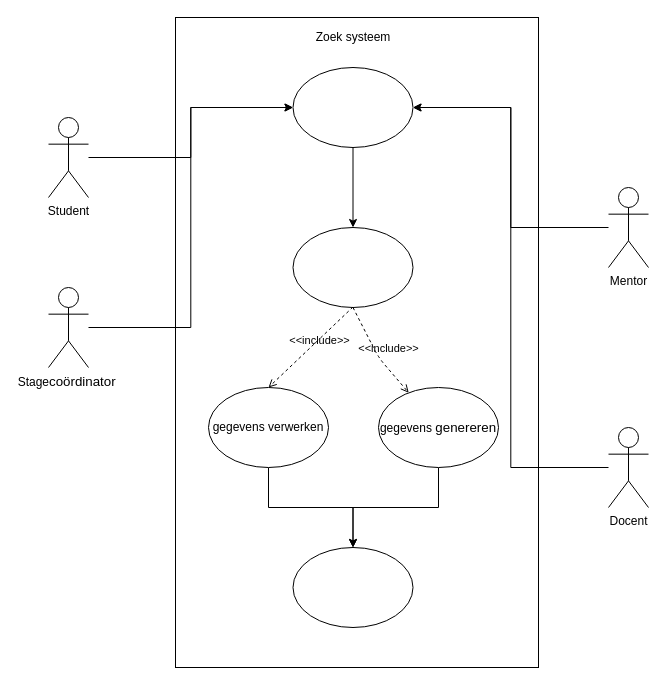
The diagram is 666 pixels wide and 685 high, and some of its shapes have lost their labels. Here are the shapes that lost their labels. From the top down, the box of each, then its label:
(292, 66, 413, 148): Gegevens invullen
(292, 226, 413, 308): Zoeken
(292, 546, 413, 628): Resultaten weergeven
